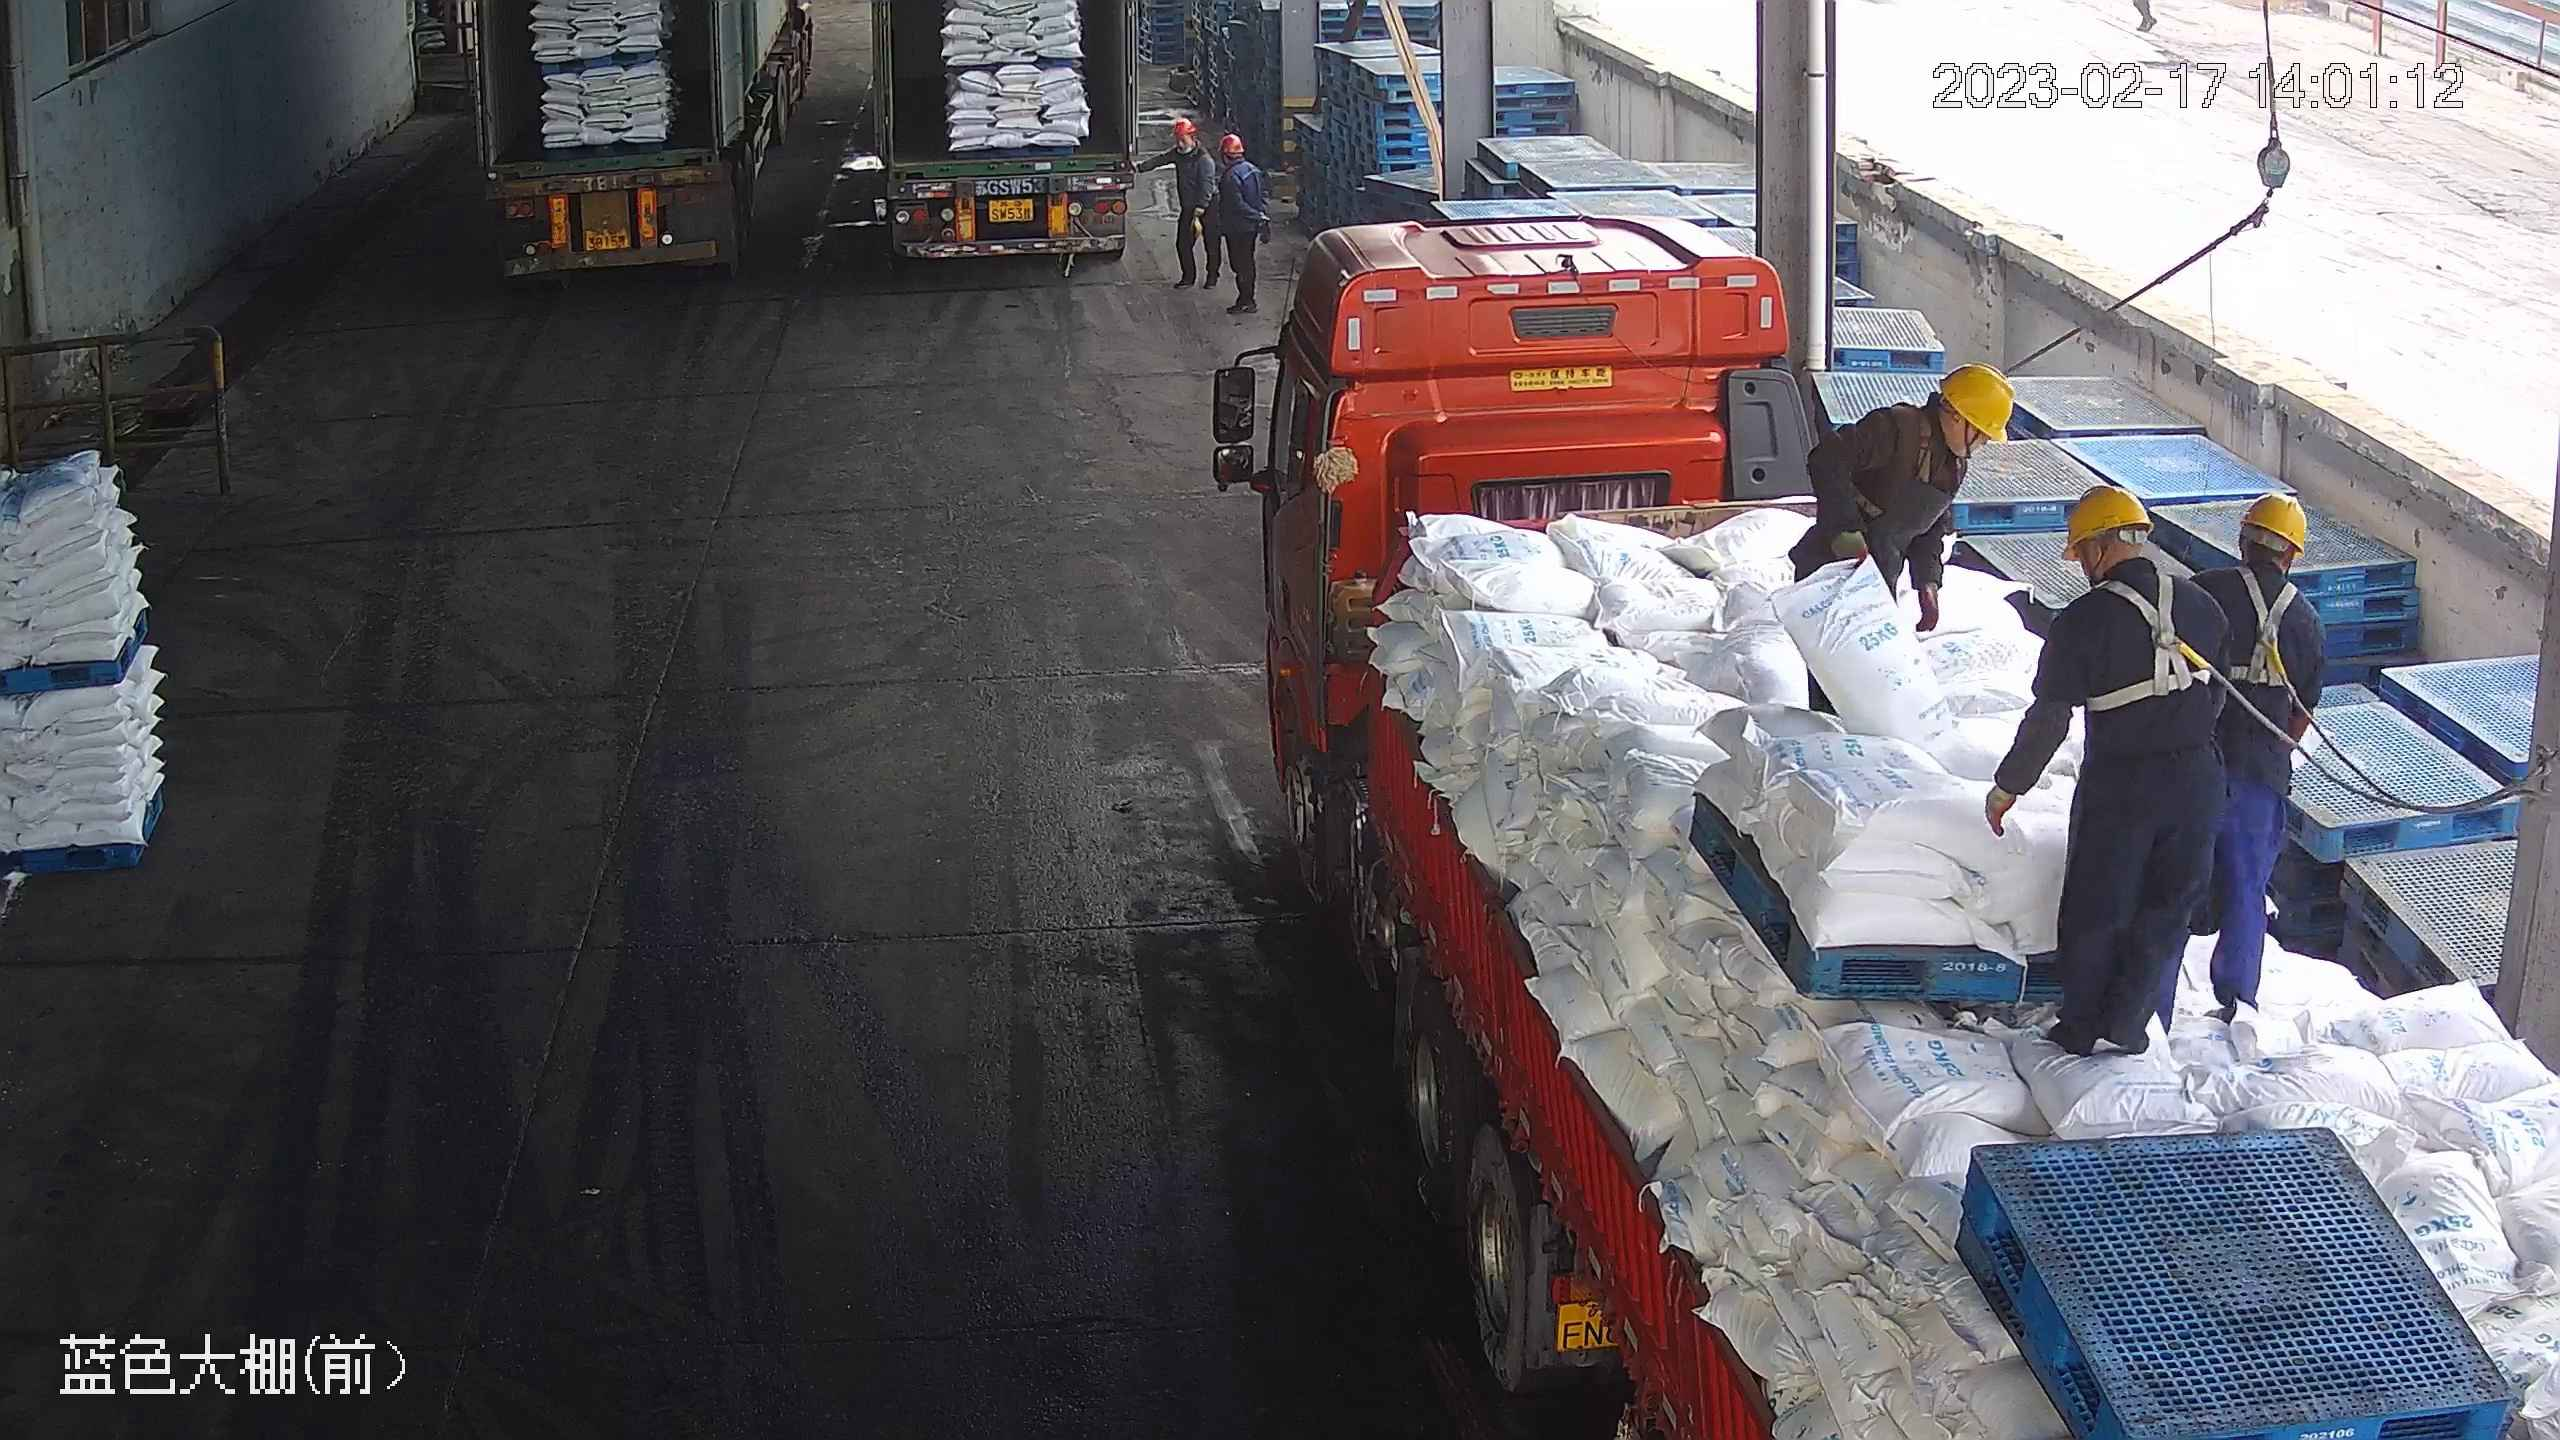belt: (2082, 560, 2219, 709), (2222, 570, 2304, 683), (1882, 408, 1958, 495)
head: (2039, 484, 2224, 659), (1863, 361, 2014, 497), (2197, 488, 2323, 643), (1217, 135, 1264, 194), (1166, 118, 1209, 180)
helmet: (2060, 484, 2153, 563), (1938, 362, 2015, 445), (2237, 490, 2307, 556), (1218, 133, 1246, 155), (1172, 116, 1199, 138)
people: (1982, 483, 2259, 1058), (2163, 493, 2327, 1015), (1788, 360, 2015, 656), (1160, 119, 1216, 292), (1215, 134, 1268, 317)
truck: (1228, 198, 2557, 1439), (476, 1, 822, 282), (857, 1, 1157, 285)
